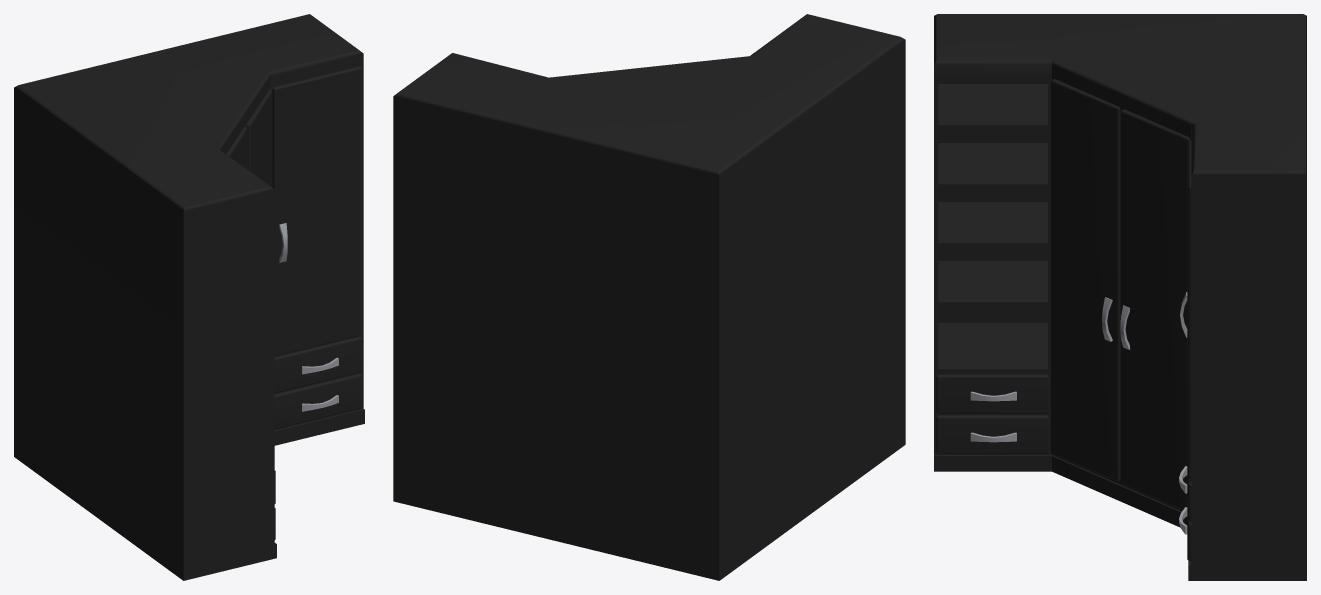
The model's file is wall cabinet_026.fbx.
3 renders of one model, left to right at view 1: azimuth 30°, elevation 25°; view 2: azimuth 150°, elevation 25°; view 3: azimuth 270°, elevation 25°, orthographic. The views are drawn at different scales.
Visible parts, largest first — view 1: wall cabinet_026; view 2: wall cabinet_026; view 3: wall cabinet_026.
Boxes of the visible parts, x1,y1,x2,y2 form: wall cabinet_026: (14, 14, 364, 580); wall cabinet_026: (393, 14, 905, 580); wall cabinet_026: (934, 14, 1306, 580).
Bounding box in the file's own units: 233 × 230 × 279.
